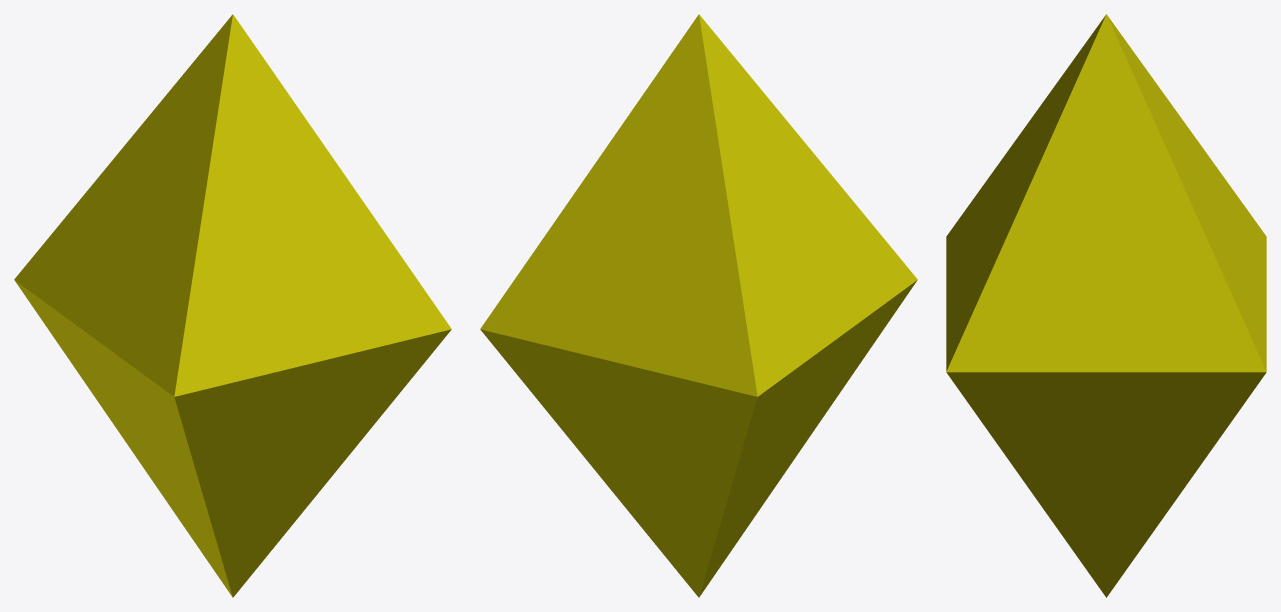
The model's file is dest.fbx.
3 views of the same model, side by side, from view 1: azimuth 30°, elevation 25°; view 2: azimuth 150°, elevation 25°; view 3: azimuth 270°, elevation 25° (orthographic).
Visible parts, largest first — view 1: 角锥; view 2: 角锥; view 3: 角锥.
Part boxes in pixels (x1,y1,x2,y2): 角锥: (14, 14, 451, 597); 角锥: (480, 14, 917, 597); 角锥: (946, 14, 1266, 597).
Bounding box in the file's own units: 200 × 402 × 200.
